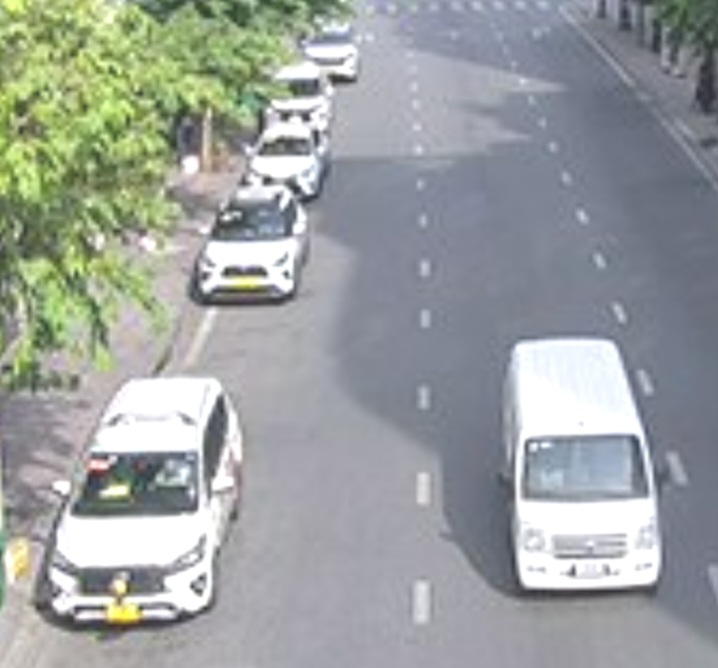car: (40, 370, 244, 622), (495, 336, 669, 596), (196, 185, 309, 304), (245, 122, 329, 193), (264, 62, 332, 124), (304, 17, 365, 80)
